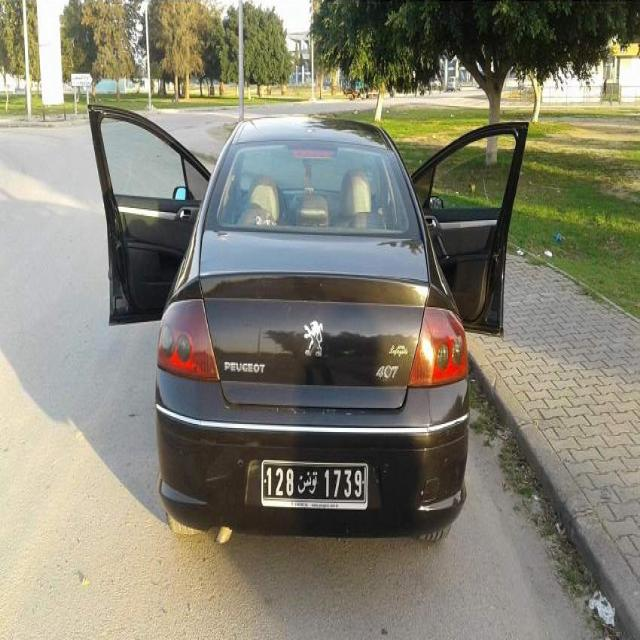licence plate: (264, 465, 365, 500)
